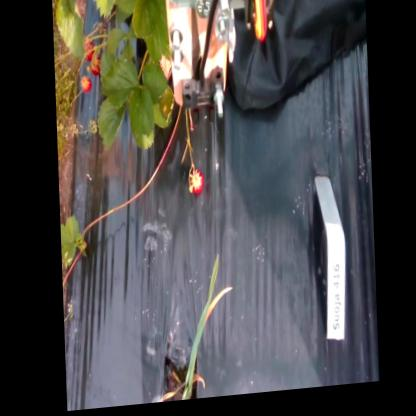ripe: (186, 171, 205, 202), (87, 57, 102, 77), (81, 40, 94, 62), (80, 74, 91, 95)
